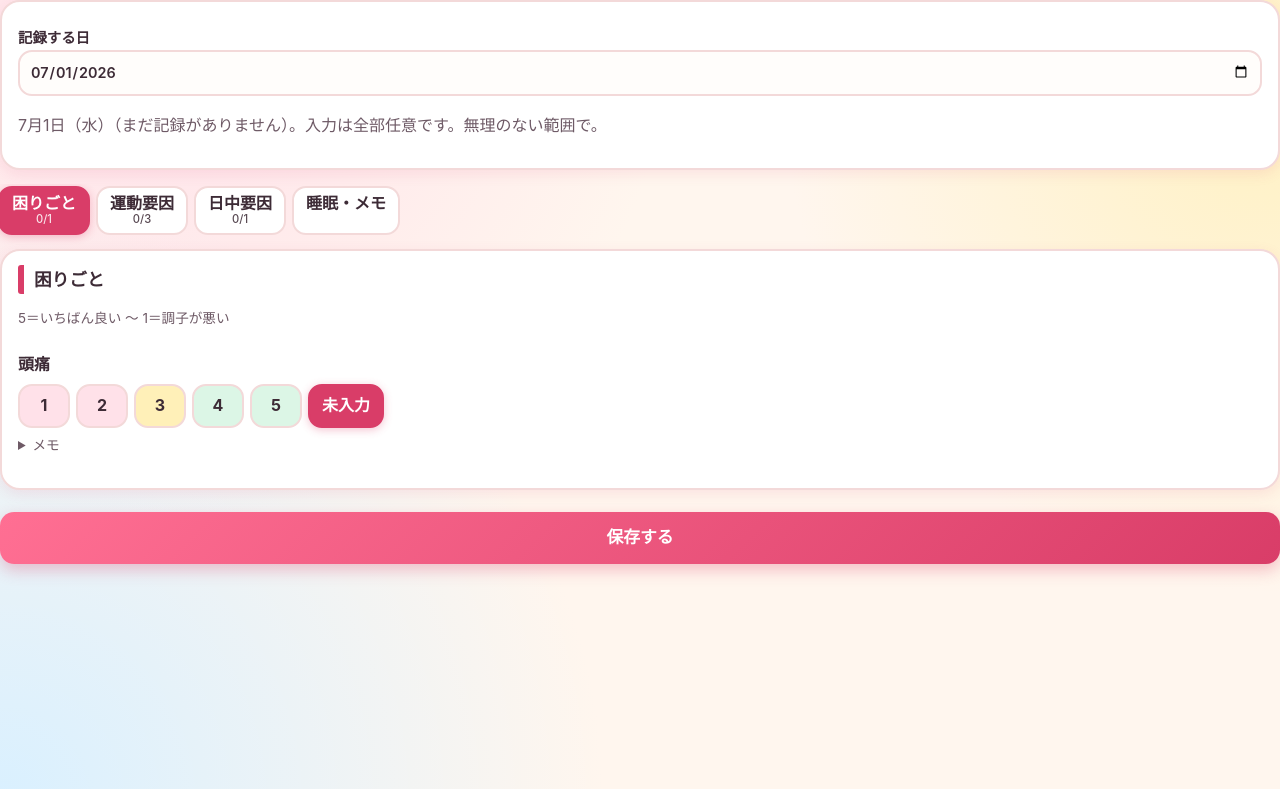
Test: 運動要因: 未回答をまとめて「実施しなかった」に › 未回答だけが「実施しなかった」になり、「実施した」にしたものは変わらない。件数も表示される
Step 1. Click the tab "運動要因 0/3" → {"x": 142, "y": 210}, box [96,186,188,234]
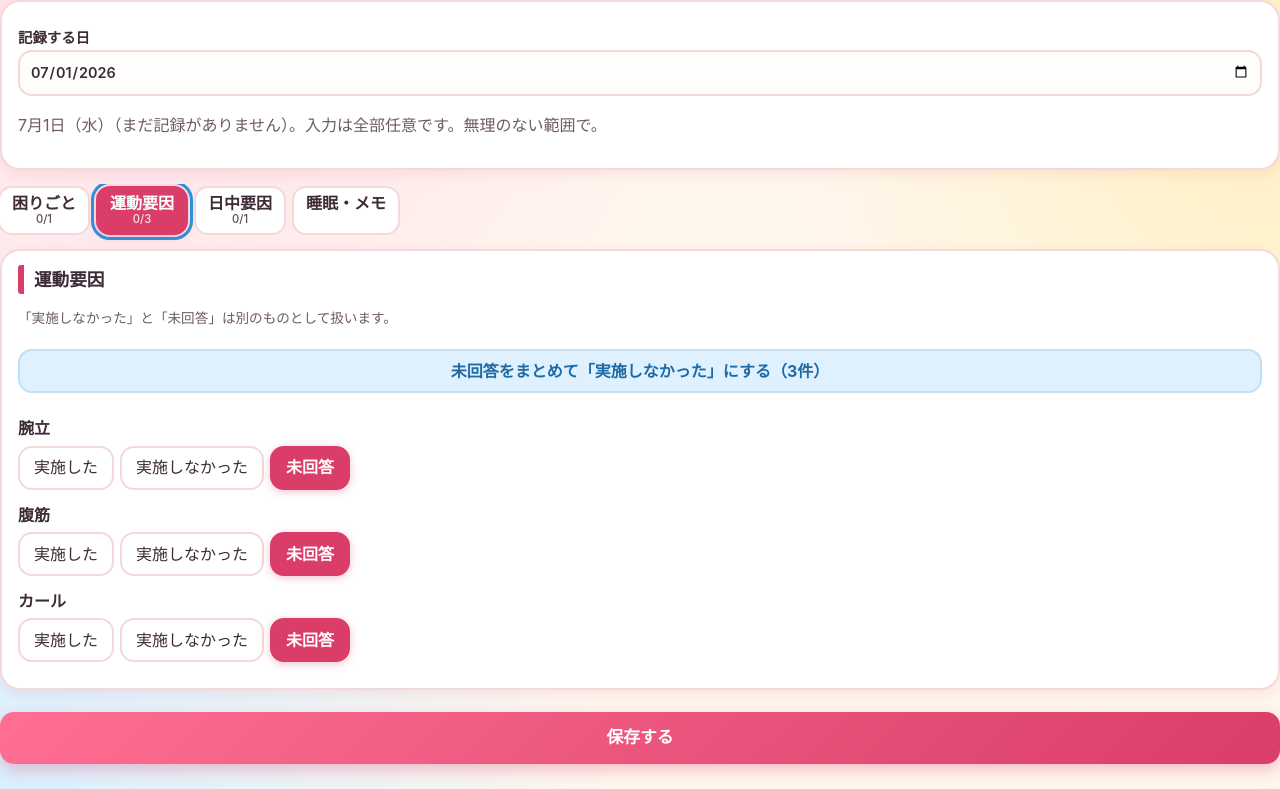
Step 2. Click the radio button labelled "実施した" below "腕立" → {"x": 66, "y": 468}, box [18,446,114,490]
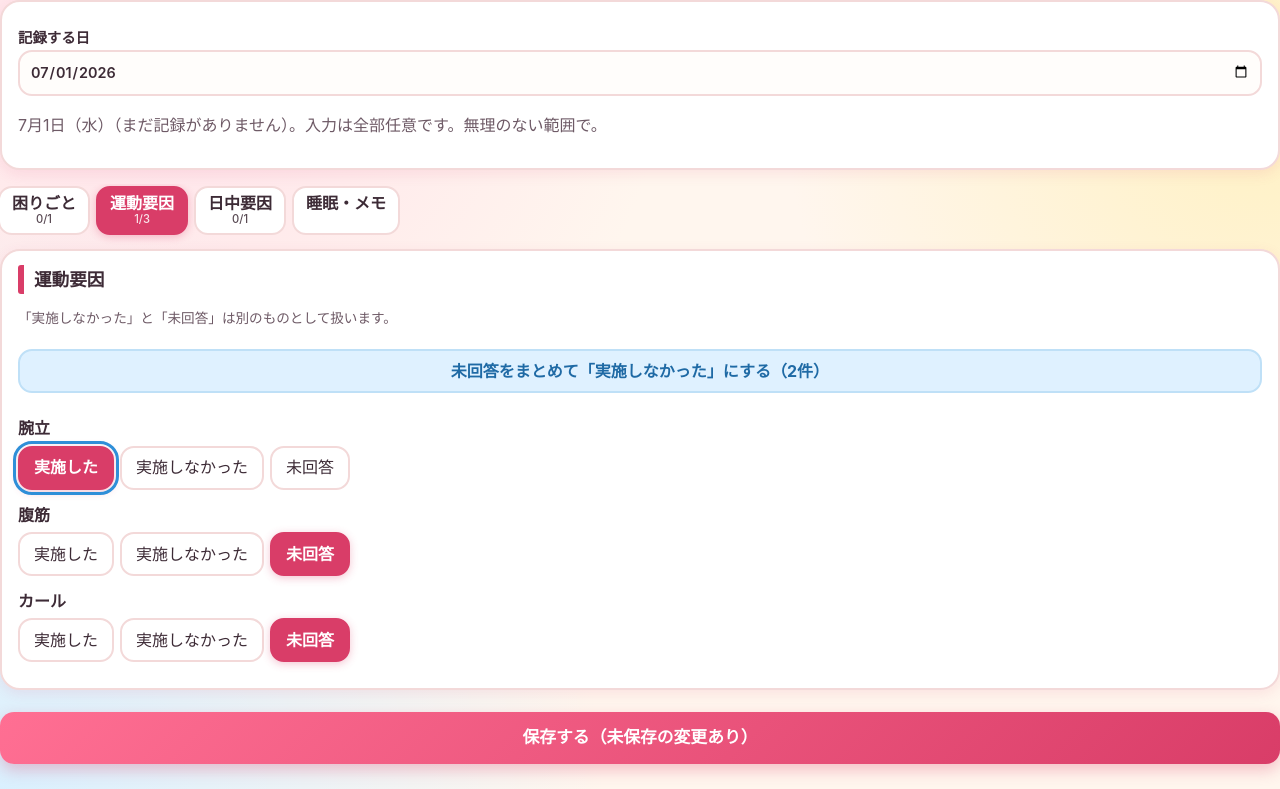
Now the button "未回答をまとめて「実施しなかった」にする（2件）" is shown
Step 3. Click the button "未回答をまとめて「実施しなかった」にする（2件）" → {"x": 640, "y": 371}, box [18,349,1262,393]
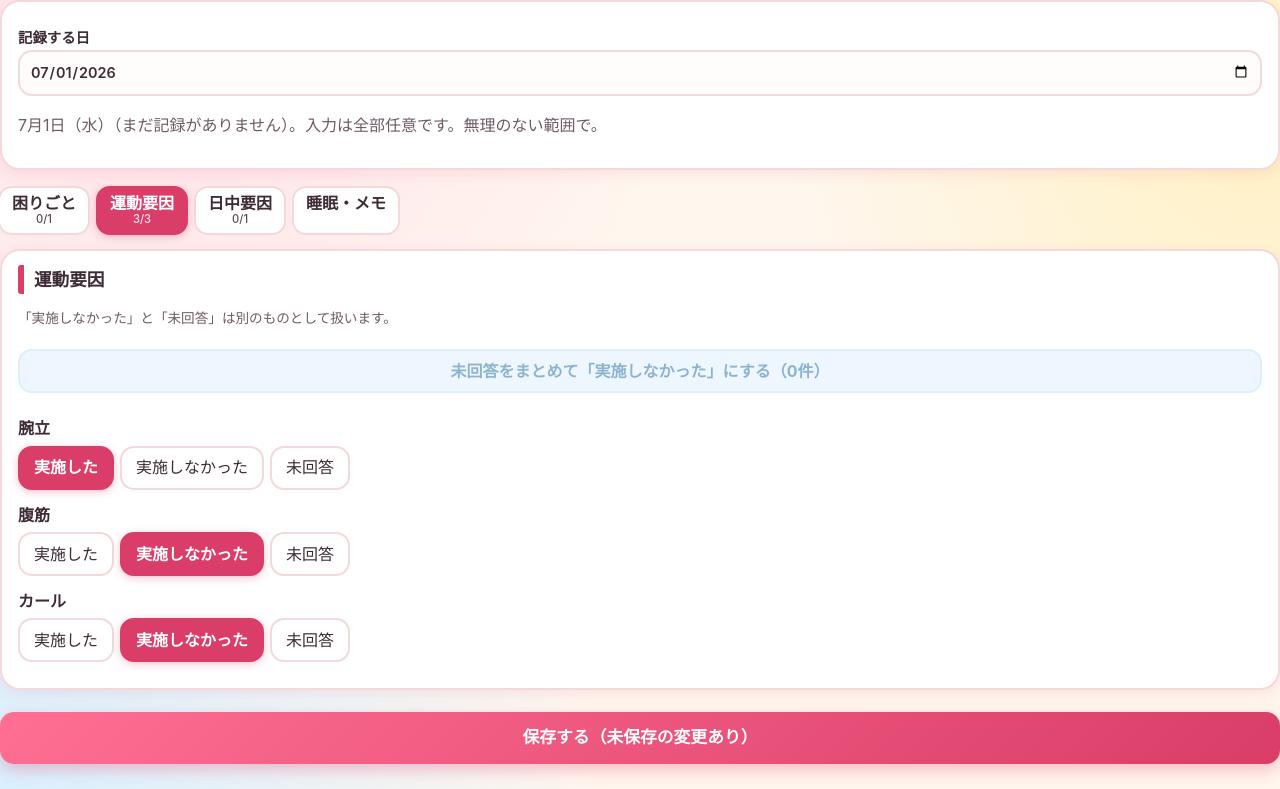
Now the button "未回答をまとめて「実施しなかった」にする（0件）" is disabled, box [18,349,1262,393]
Step 4. Click the button "保存する（未保存の変更あり）" → {"x": 640, "y": 738}, box [0,712,1279,764]
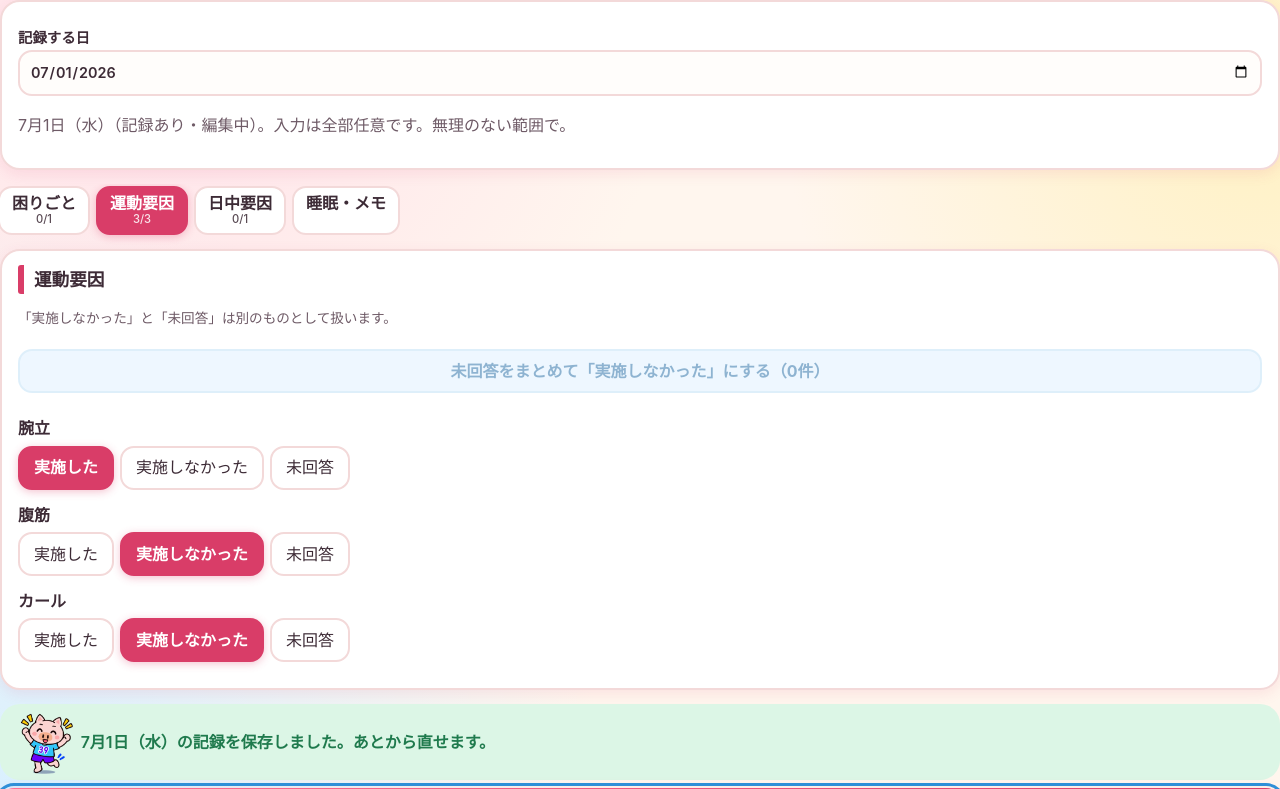
Now the text "7月1日（水）の記録を保存しました。あとから直せます。" is shown, box [81,729,495,756]
